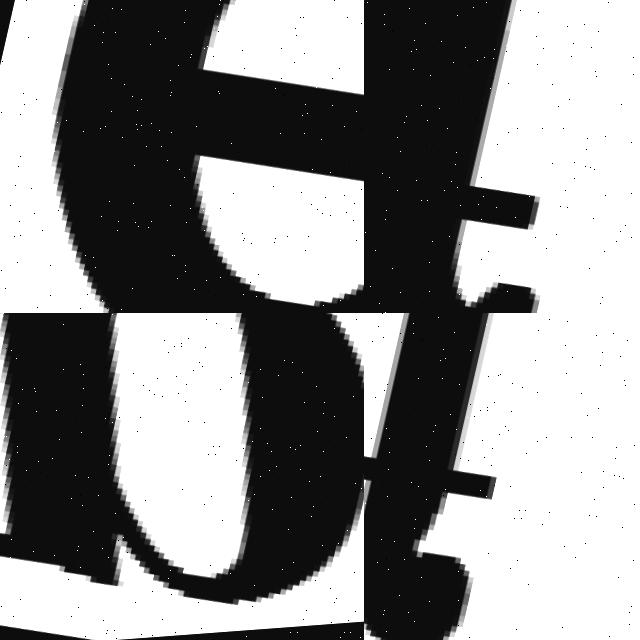E: (52, 0, 364, 313)
F: (364, 0, 640, 313), (364, 313, 585, 640)
P: (0, 313, 364, 611)
